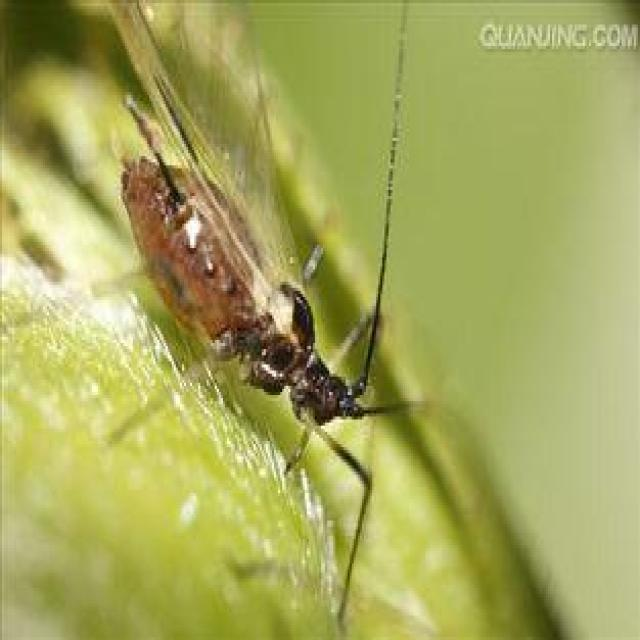Aphids: (75, 32, 424, 571)
